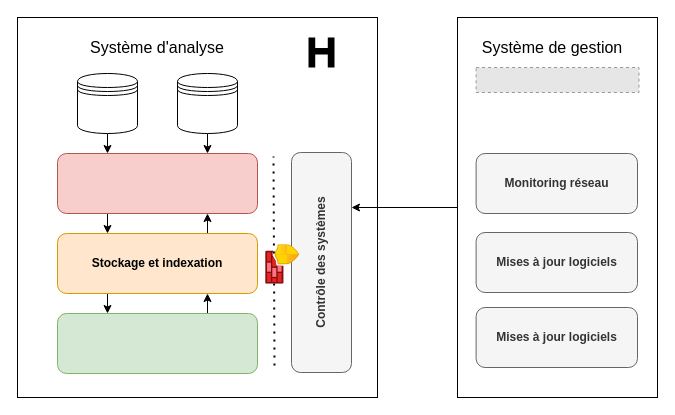
The diagram is 675 pixels wide and 415 high, and some of its shapes have lost their labels. Grey dashed boxes stand in for pictures. The centre of each missing label's shape, as x and y in pixels:
"Analyse et calculs" belongs at [157,343].
"Standardisation et anonymisation" belongs at [157,183].
